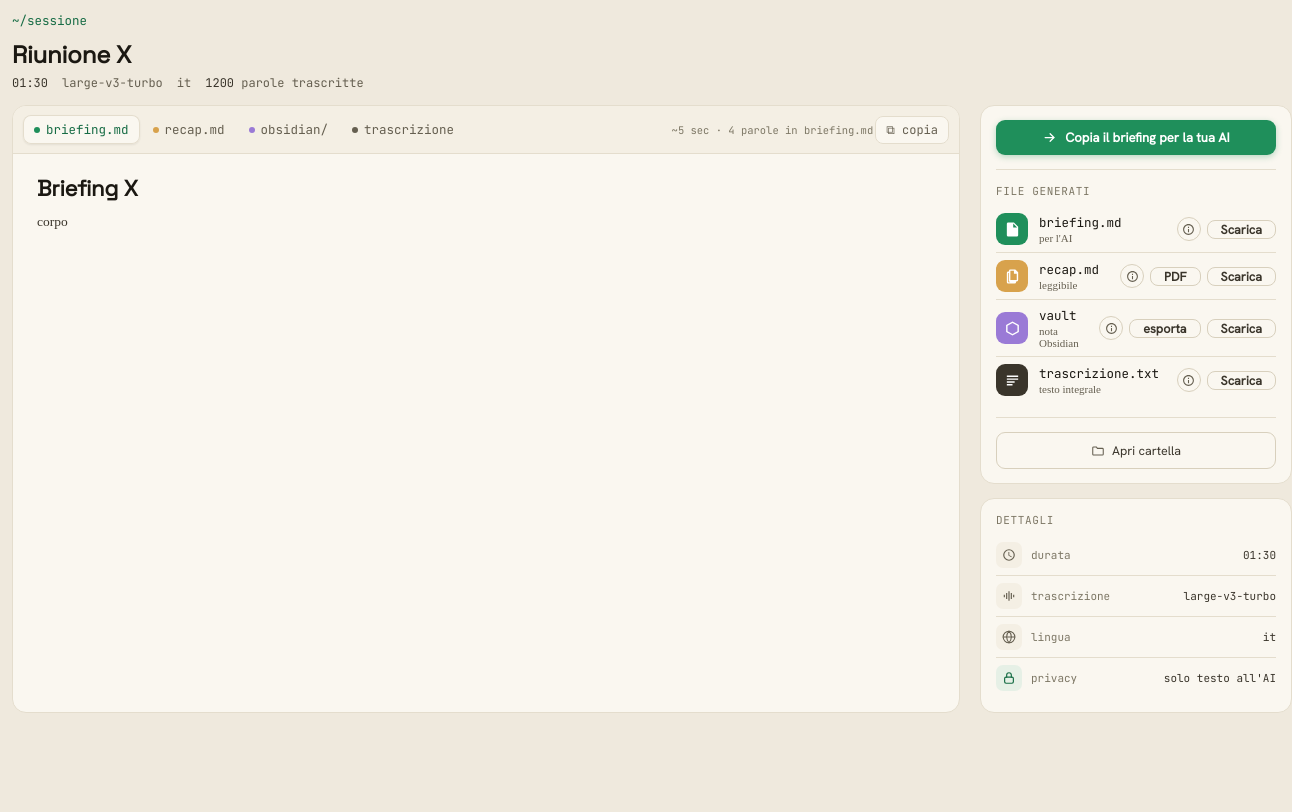
ScreenArtifacts › cliccare obsidian/ mostra il contenuto della nota
Click the button "obsidian/". click: [288, 130]
box: [238, 115, 339, 144]
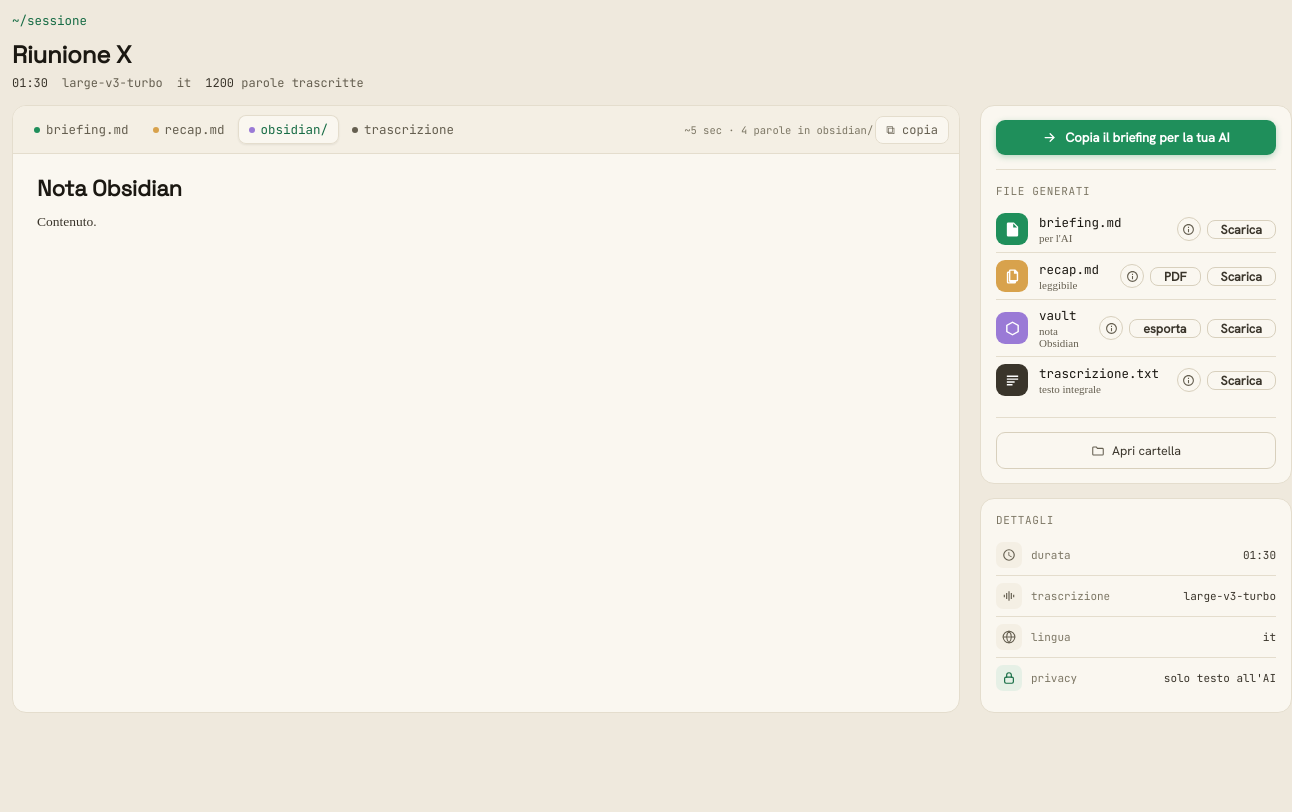
Now the heading "Nota Obsidian" is shown, box [37, 174, 182, 202]
